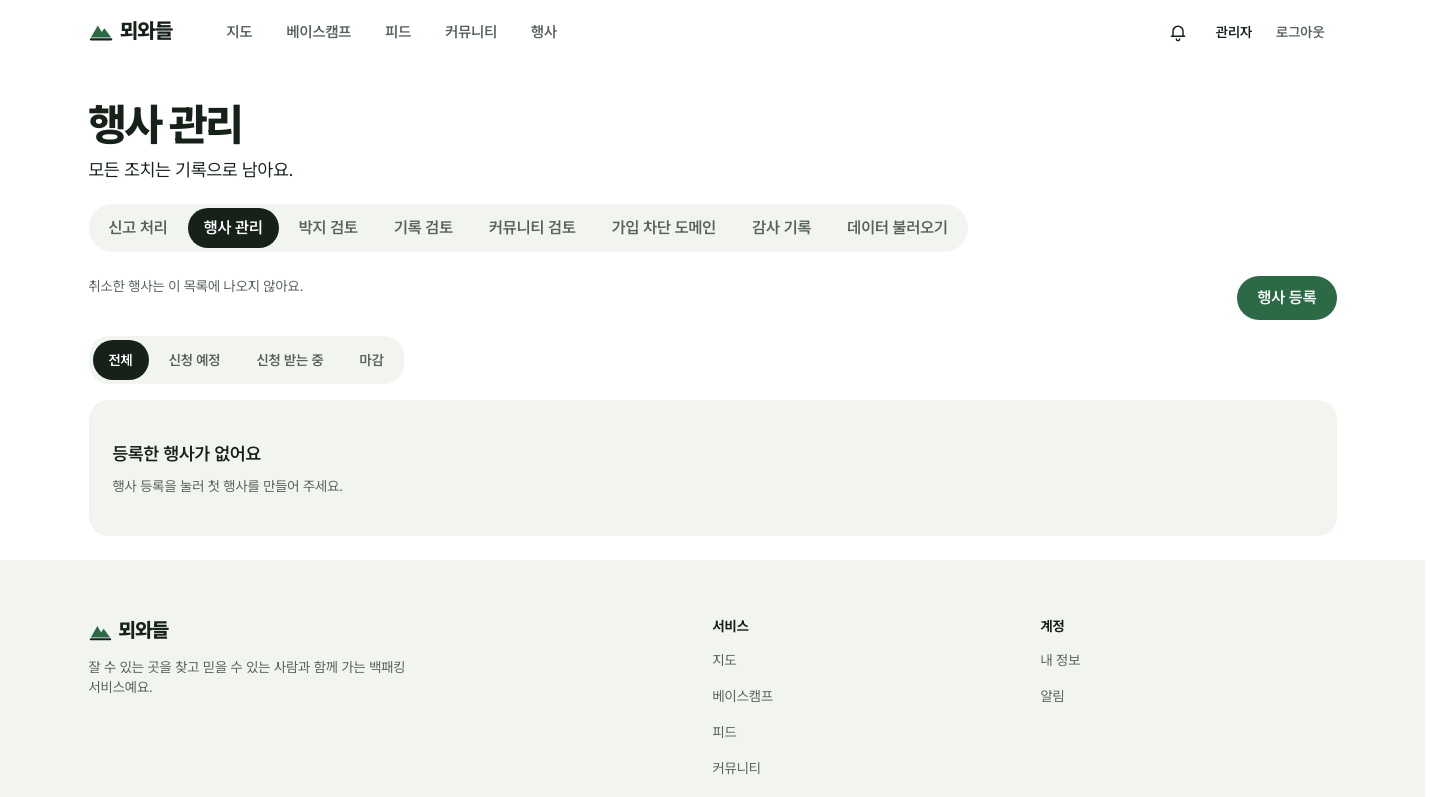
Test: 관리자 행사 관리 목록 › 상태 구분마다 다른 빈 상태 문구를 보여 준다
The width and height of the screenshot is (1440, 797).
Click the button "신청 예정". click: [195, 360]
box: [153,340,236,380]
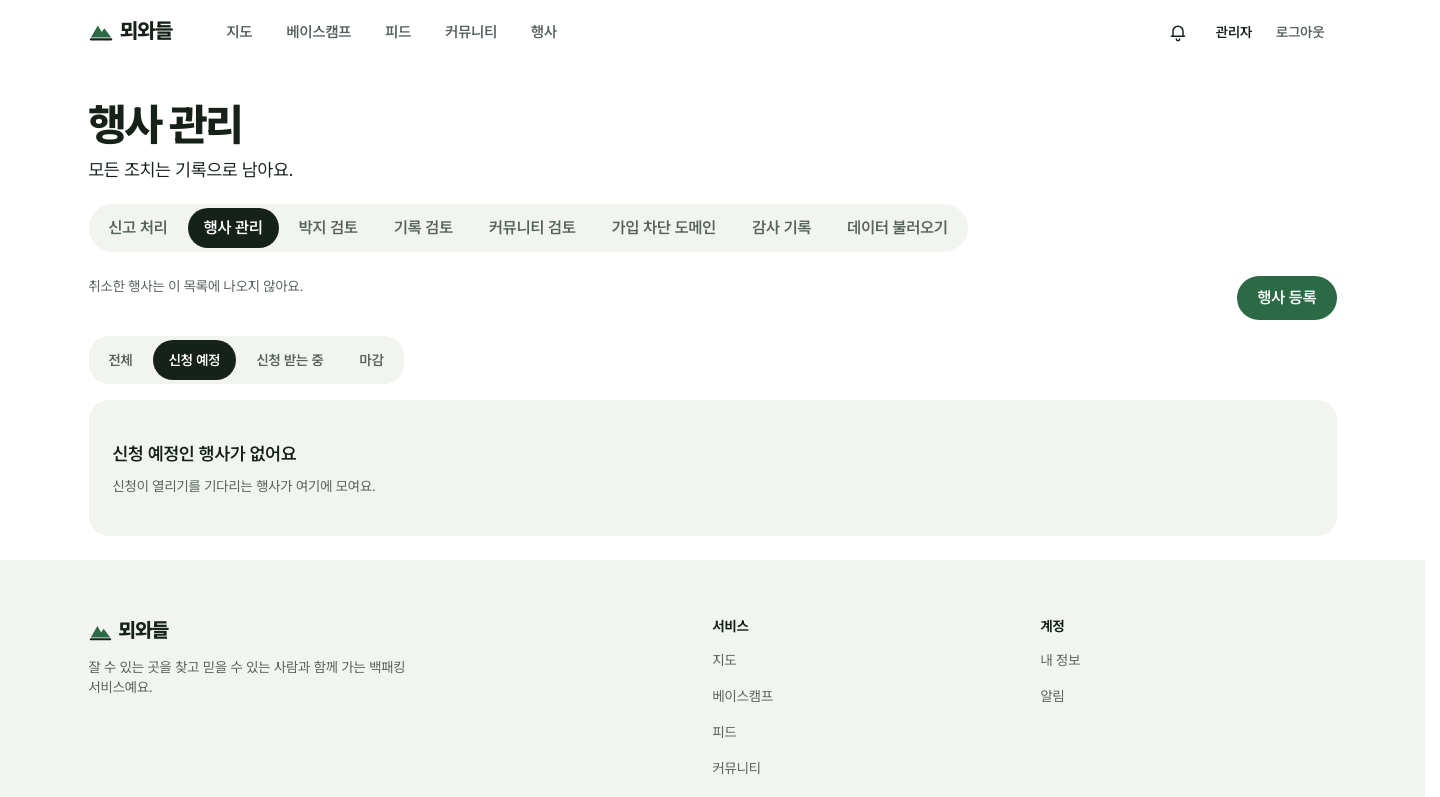
Check: the text "신청 예정인 행사가 없어요" is shown, box [112,440,296,468]
Click the button "신청 받는 중". click: [290, 360]
box: [240,340,340,380]
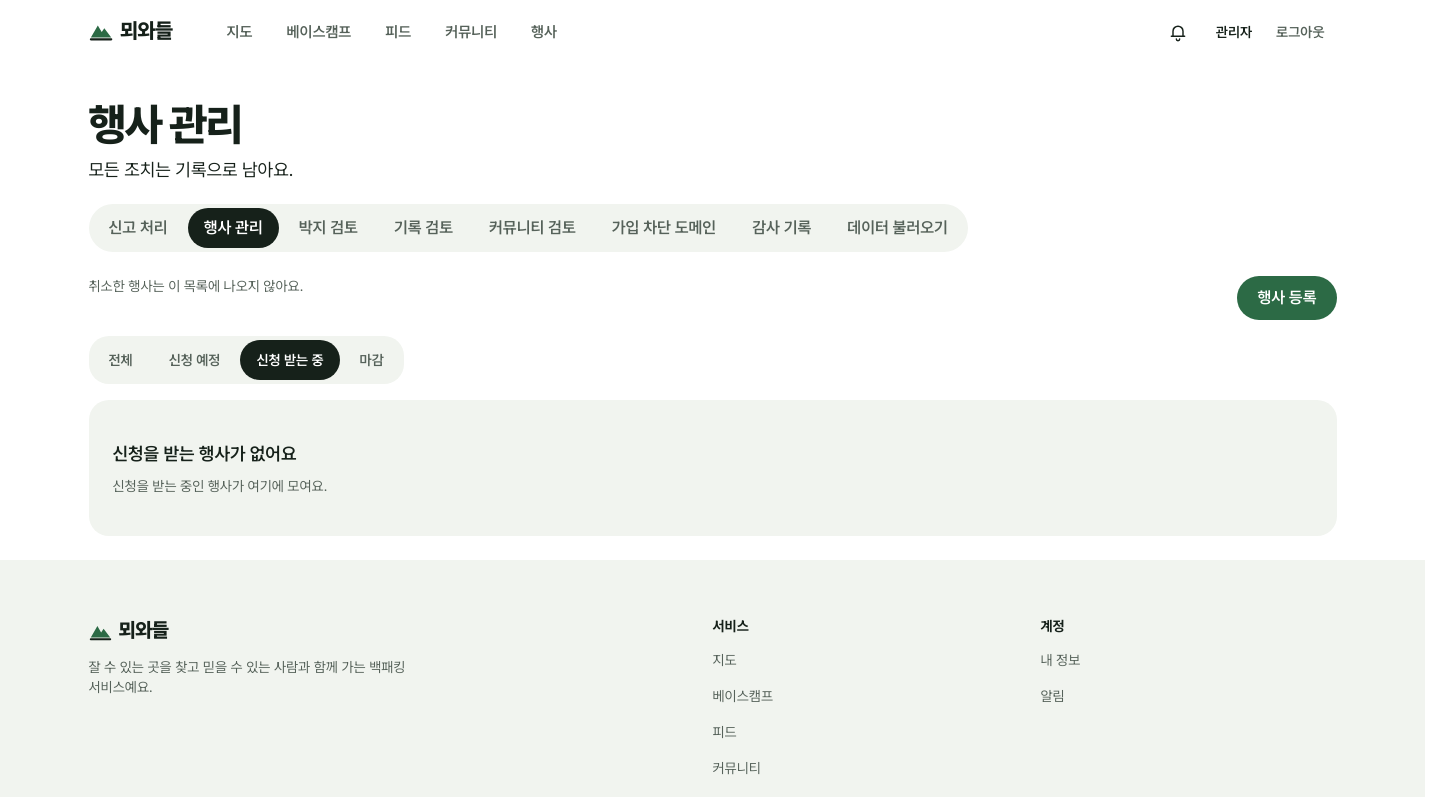
Check: the text "신청을 받는 행사가 없어요" is shown, box [112,440,296,468]
Click the button "마감". click: [372, 360]
box: [344,340,400,380]
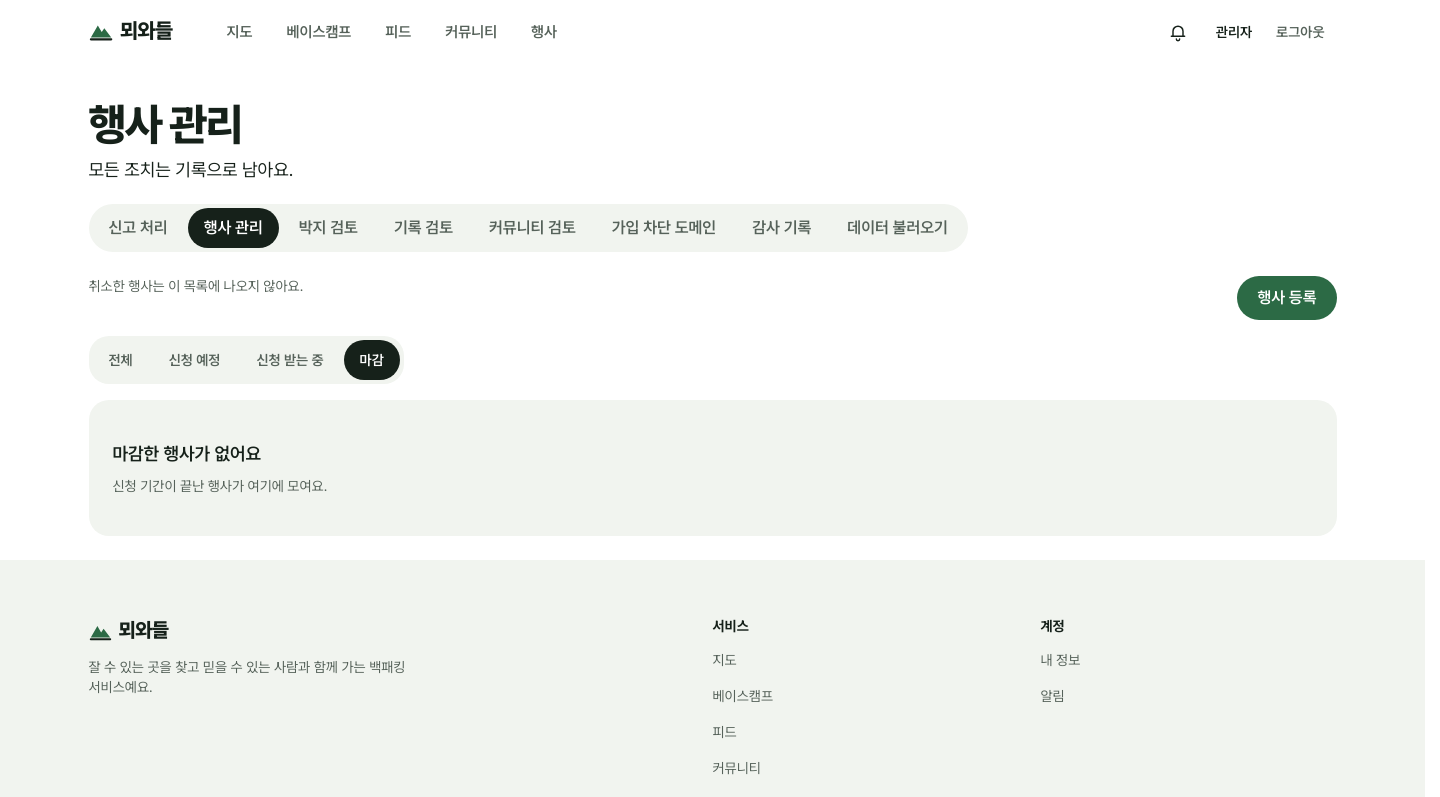
Check: the text "마감한 행사가 없어요" is shown, box [112,440,261,468]
